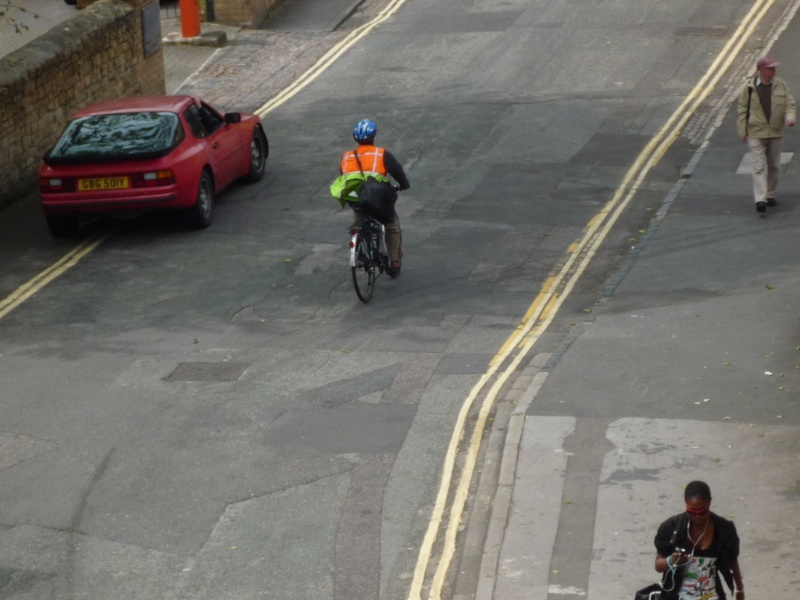helmet: (356, 117, 377, 138)
jacket: (338, 140, 386, 193)
